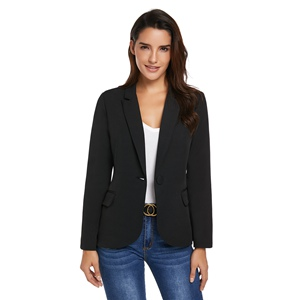F_W_suit jacket: (77, 78, 217, 253)
